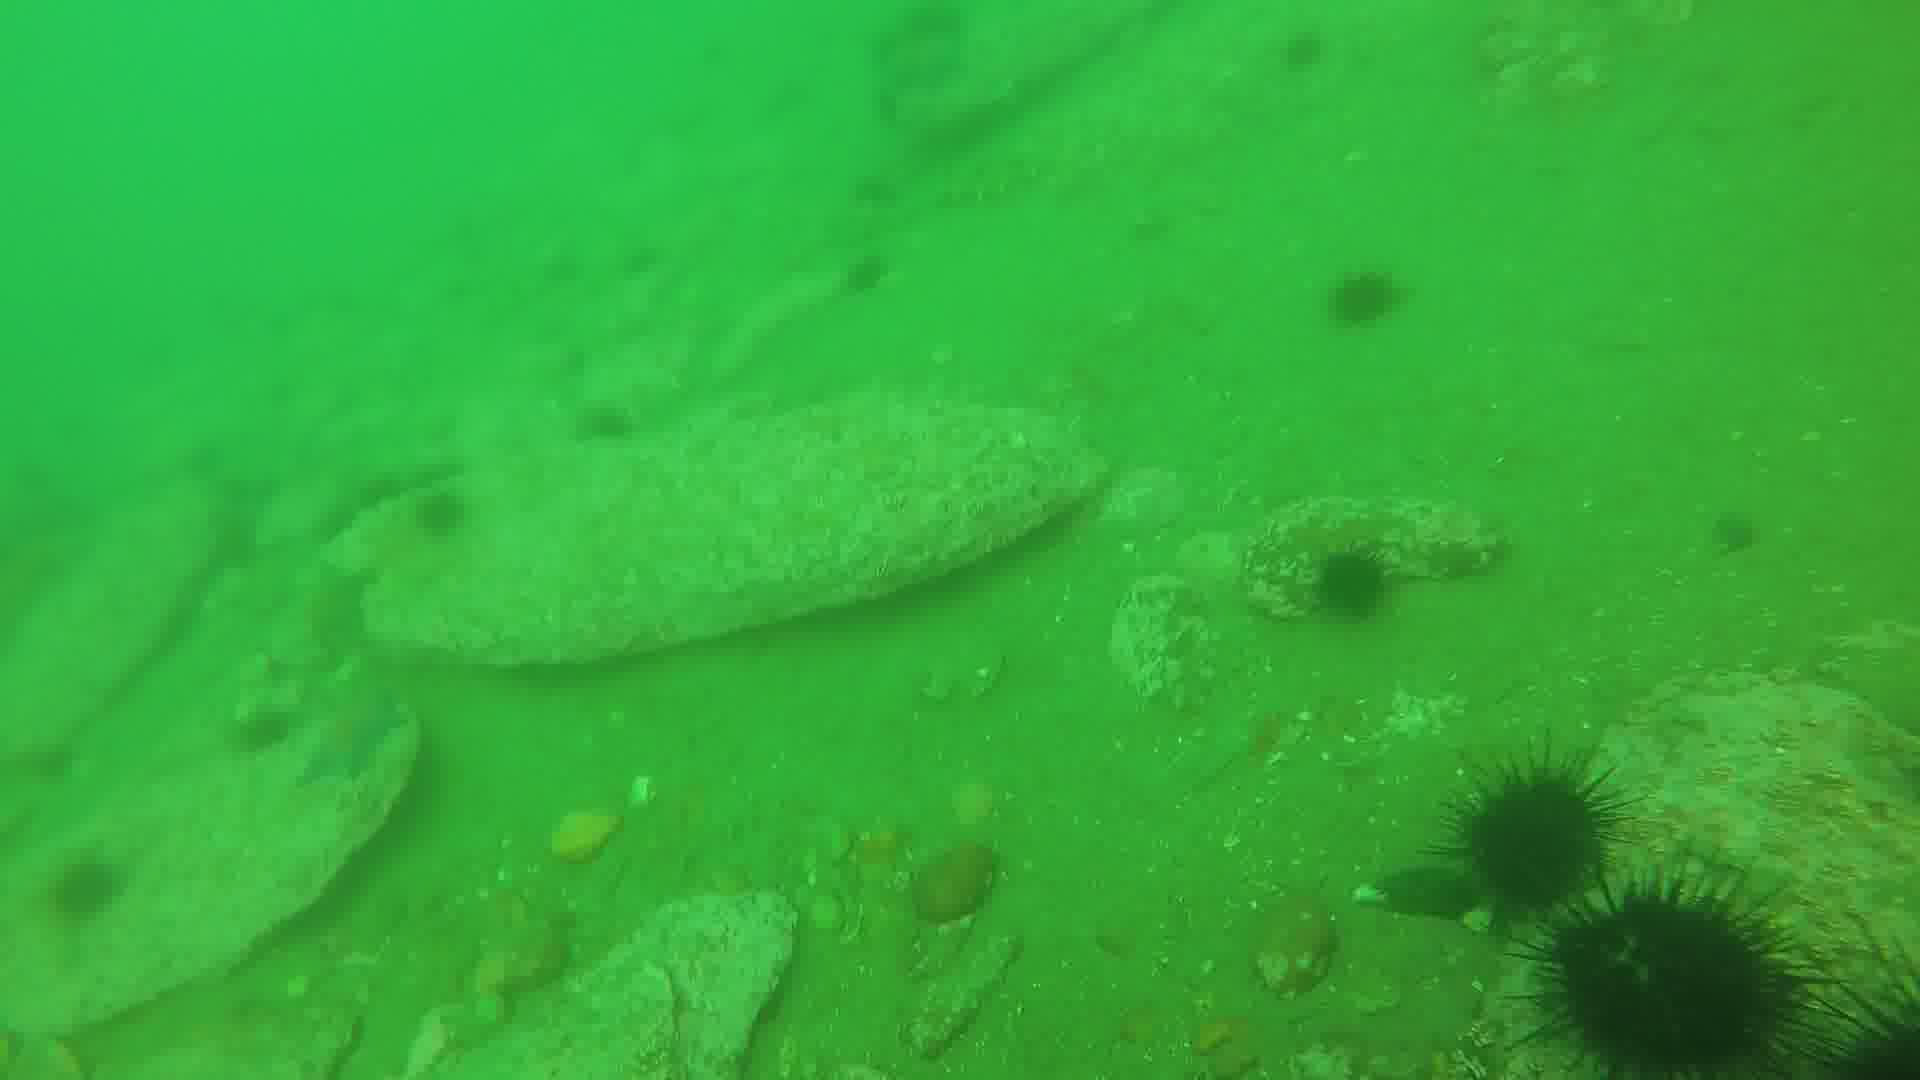echinus: (1528, 895, 1776, 1080), (1455, 760, 1604, 911), (1805, 965, 1920, 1080), (57, 858, 142, 932), (1312, 553, 1396, 625), (1331, 269, 1406, 330), (411, 485, 479, 547), (841, 247, 895, 293), (1288, 28, 1335, 76)
scallop: (1250, 882, 1346, 997), (907, 839, 1000, 920), (546, 800, 626, 866)
starfish: (294, 692, 411, 785)
